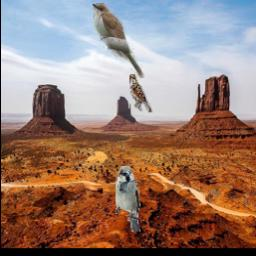Cuckoo: (93, 4, 144, 79)
Sparrow: (115, 167, 139, 233), (128, 75, 151, 113)
